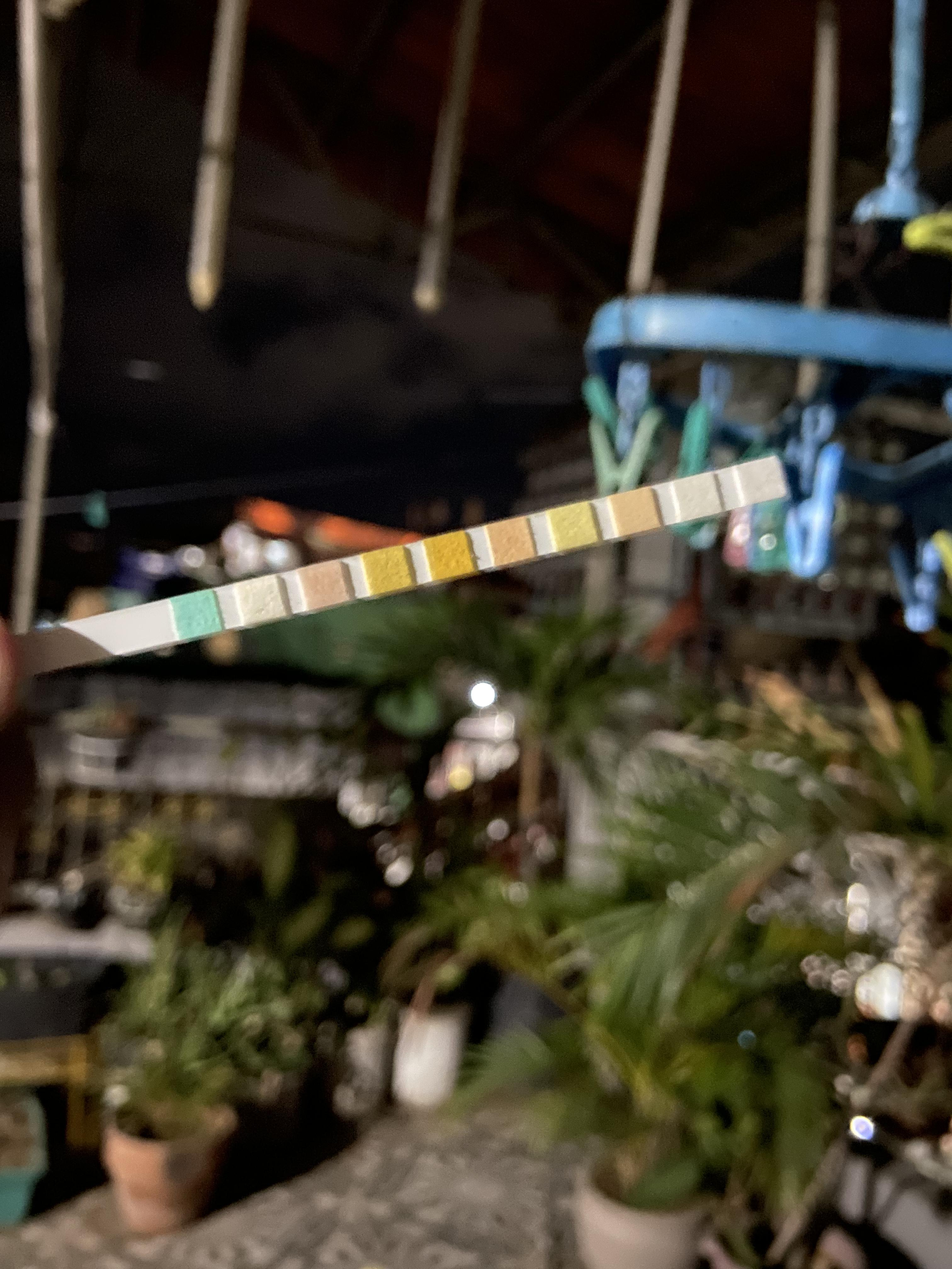Bilirubin: (242, 582, 277, 619)
Blood: (430, 538, 467, 574)
Glucose: (179, 598, 215, 631)
Ketone: (307, 567, 342, 603)
Leukocytes: (744, 464, 778, 499)
Nitrite: (680, 480, 715, 513)
Protein: (555, 509, 591, 543)
SpGravity: (370, 552, 403, 589)
Urobilinogen: (617, 494, 653, 529)
pH: (494, 524, 528, 559)
strip: (42, 456, 791, 672)
